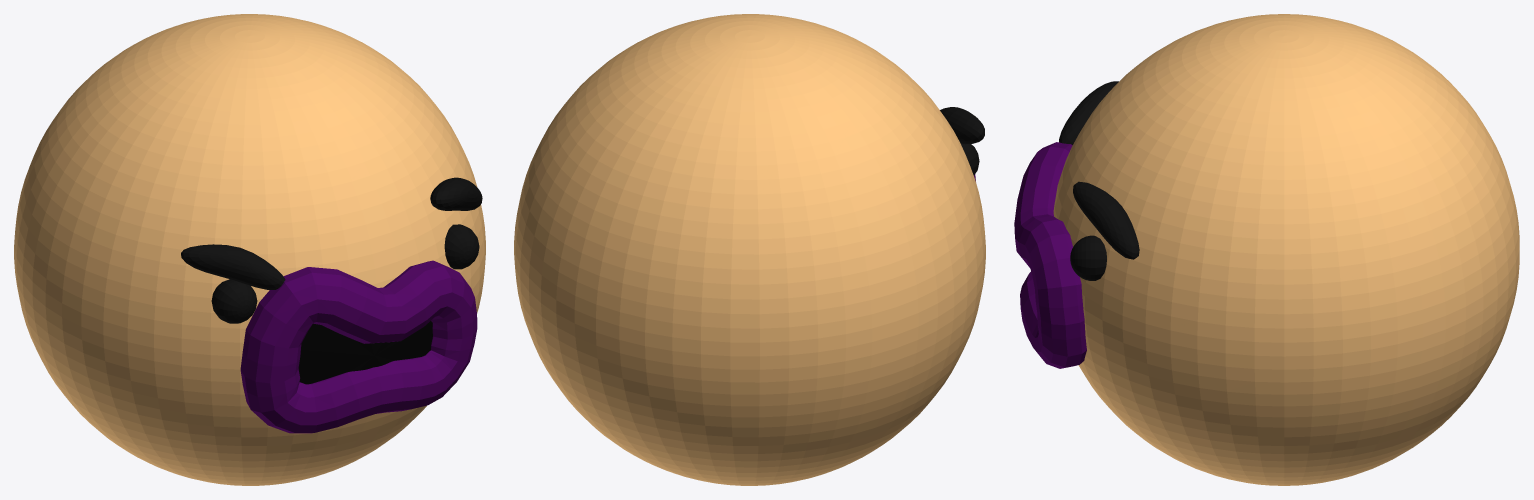
Rendered from Planet_Face_Eye.fbx.
3 views of the same model, side by side, from view 1: azimuth 30°, elevation 25°; view 2: azimuth 150°, elevation 25°; view 3: azimuth 270°, elevation 25° (orthographic).
Parts seen in each view (by area): view 1: geo1; view 2: geo1; view 3: geo1.
Boxes of the visible parts, x1=… form: geo1: x1=14, y1=14, x2=485, y2=485; geo1: x1=514, y1=14, x2=985, y2=485; geo1: x1=1014, y1=14, x2=1519, y2=485.
Bounding box in the file's own units: 39.98 × 40 × 42.82.
